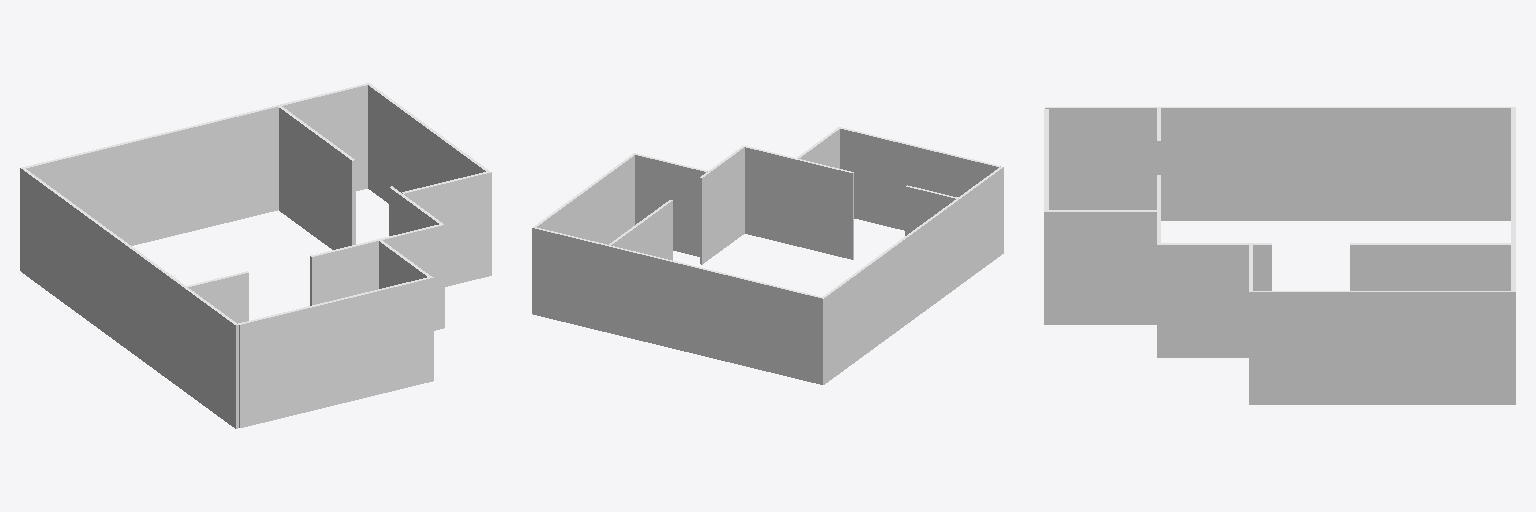
The robot description file, URDF, robot "wall1_beta":
<?xml version="1.0"?>
<!--
  Robot: wall1_beta
  Generated by: LinkForge v1.3.2
  https://github.com/arounamounchili/linkforge
  Date: 2026-03-24 02:38:26
-->
<robot name="wall1_beta">
  <!-- Materials -->
  <material name="white">
    <color rgba="1 1 1 1" />
  </material>
  <!-- Links -->
  <link name="baseLink">
    <inertial>
      <mass value="10000" />
      <inertia ixx="0.000001" ixy="0" ixz="0" iyy="0.000001" iyz="0" izz="0.000001" />
    </inertial>
    <visual>
      <origin xyz="0.439084 -0.951297 1.32383" rpy="1.570796 0 0" />
      <geometry>
        <mesh filename="meshes\baseLink_visual.obj" />
      </geometry>
      <material name="white" />
    </visual>
    <collision>
      <origin xyz="0.439084 1.32383 0.951297" rpy="0 0 0" />
      <geometry>
        <mesh filename="meshes\baseLink_collision.stl" />
      </geometry>
    </collision>
  </link>
</robot>

--- Facts derived from the render (not from the file) ---
3 views of the same robot in one strip: view 1: azimuth 30°, elevation 25°; view 2: azimuth 150°, elevation 25°; view 3: azimuth 270°, elevation 25° (orthographic).
Robot: wall1_beta — 1 links, 0 joints (none); root link baseLink; default pose: all joints at 0.
Visible links, largest first — view 1: baseLink; view 2: baseLink; view 3: baseLink.
Link boxes in pixels (x1,y1,x2,y2): baseLink: [20, 83, 491, 428]; baseLink: [532, 127, 1003, 384]; baseLink: [1044, 107, 1515, 404].
Bounding box of the posed robot: 9.7 × 10.39 × 2.75 m (x, y, z).
1 mesh visuals loaded from 1 distinct referenced files (1 OBJ).
